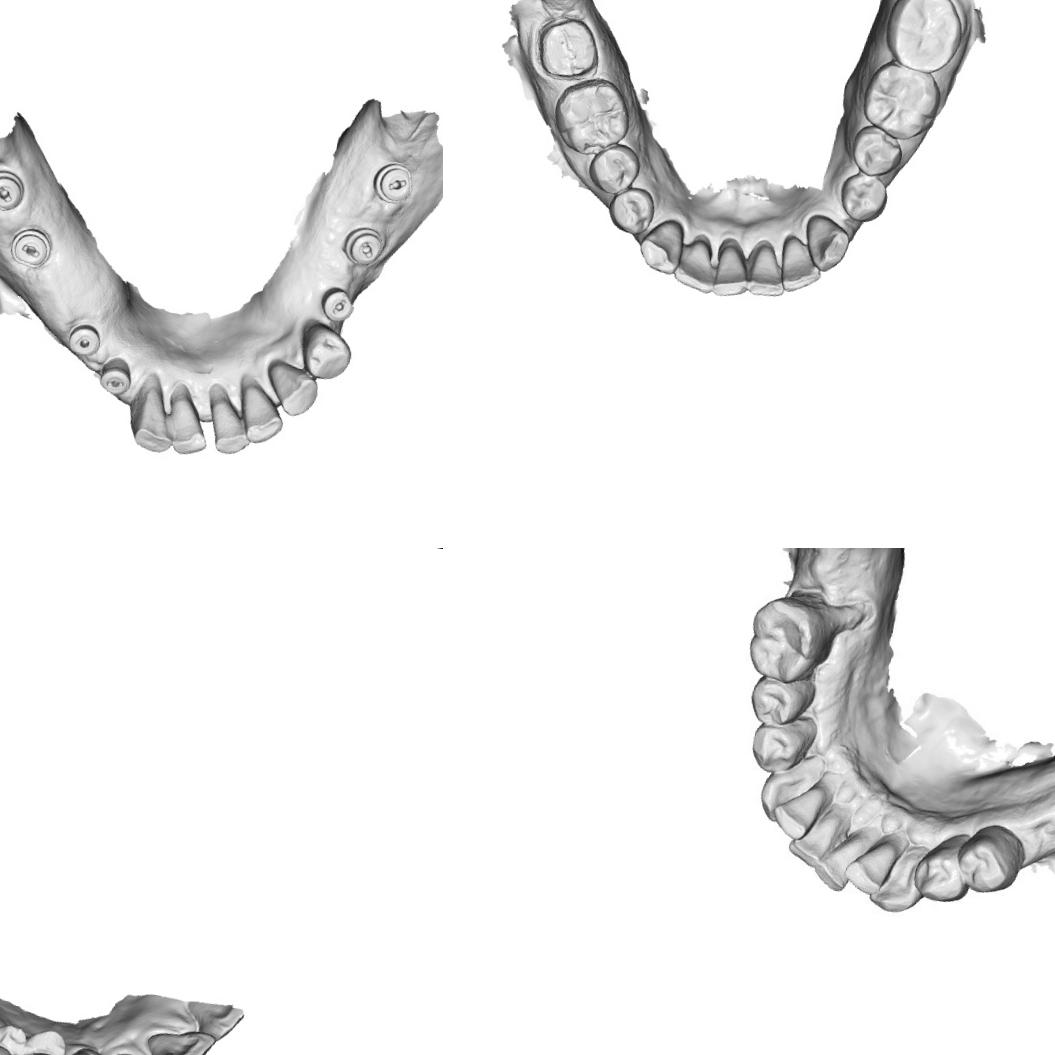canine: (870, 842, 932, 917), (750, 757, 812, 829), (258, 354, 322, 421), (798, 210, 854, 276), (634, 214, 687, 276)
crown: (530, 10, 605, 86)
implant: (62, 317, 106, 360)
implant_minus: (338, 220, 389, 271), (4, 221, 56, 271), (370, 156, 417, 206), (317, 280, 358, 325), (96, 355, 136, 400), (0, 164, 27, 215)
incisor: (230, 380, 290, 449), (786, 804, 844, 871), (820, 825, 874, 896), (126, 383, 179, 455), (771, 775, 828, 841), (160, 391, 214, 459), (849, 830, 906, 894), (178, 995, 248, 1046), (774, 231, 828, 296), (201, 396, 257, 457), (670, 234, 722, 295), (742, 239, 791, 300), (710, 238, 755, 300), (138, 1021, 218, 1055)
molar: (856, 52, 946, 146), (546, 70, 637, 162), (745, 598, 830, 688), (879, 0, 964, 71)
premolar: (954, 822, 1024, 902), (291, 316, 357, 386), (914, 828, 972, 906), (846, 120, 906, 180), (747, 673, 809, 731), (584, 138, 643, 198), (750, 717, 812, 774), (834, 168, 892, 226), (603, 182, 658, 237), (12, 1022, 70, 1055), (0, 1016, 32, 1055)
